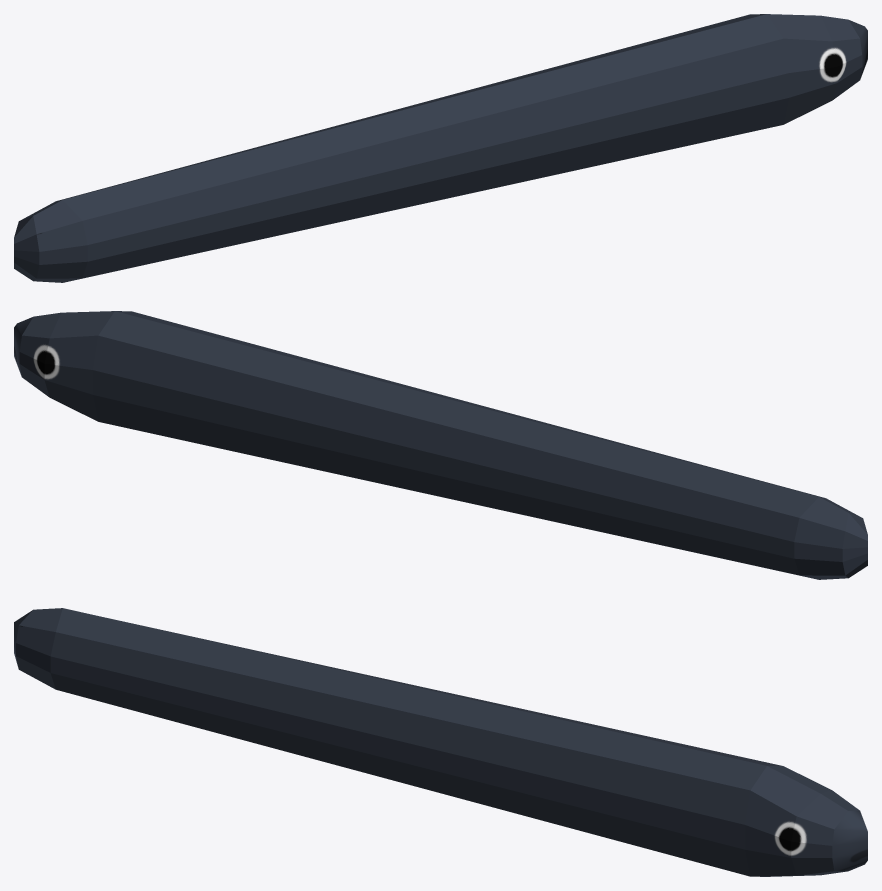
File: electric_eel_fish.fbx
The picture shows the model from 3 angles, top to bottom: view 1: azimuth 30°, elevation 25°; view 2: azimuth 150°, elevation 25°; view 3: azimuth 330°, elevation 25°; orthographic projection.
Parts seen in each view (by area): view 1: Rectangle001; view 2: Rectangle001; view 3: Rectangle001.
Boxes of the visible parts, x1=… form: Rectangle001: x1=14, y1=14, x2=867, y2=282; Rectangle001: x1=14, y1=311, x2=867, y2=579; Rectangle001: x1=14, y1=608, x2=867, y2=876.
Bounding box in the file's own units: 236 × 29.28 × 22.
1 material, 1 textured.
